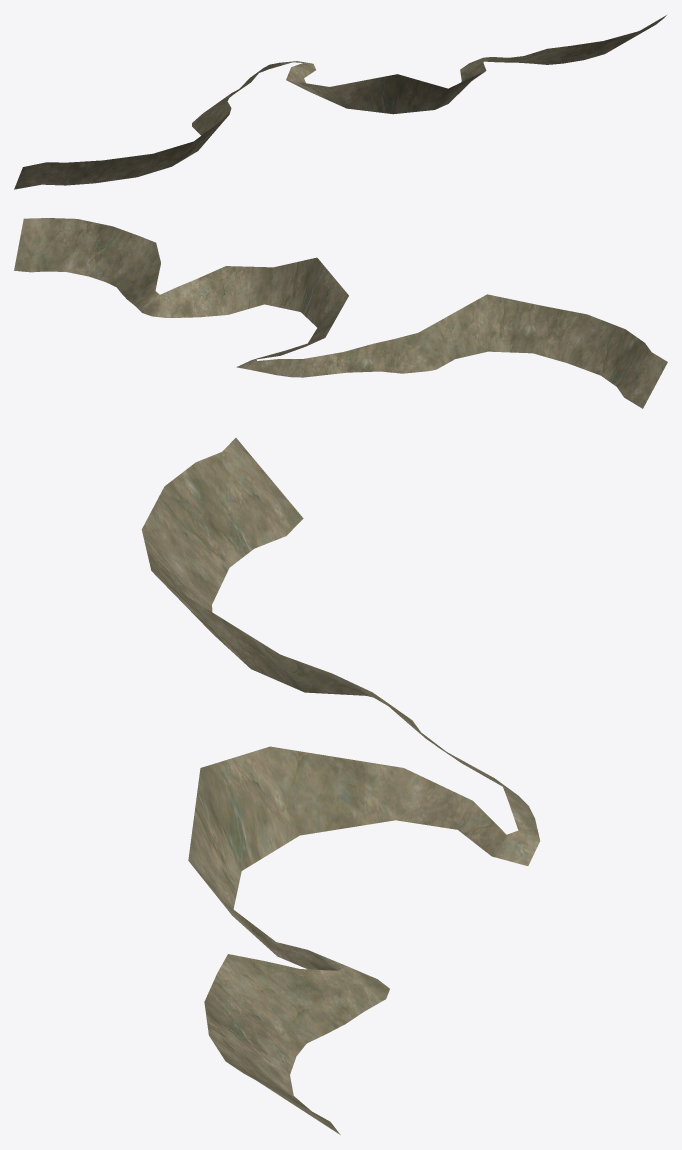
The model's file is OVERHILL_A_01_OBJECT165.fbx.
3 views of the same model, one above another, from view 1: azimuth 30°, elevation 25°; view 2: azimuth 150°, elevation 25°; view 3: azimuth 270°, elevation 25° (orthographic). The views are drawn at different scales.
Parts seen in each view (by area): view 1: OVERHILL_A_01_OBJECT165; view 2: OVERHILL_A_01_OBJECT165; view 3: OVERHILL_A_01_OBJECT165.
Boxes of the visible parts, x1=… form: OVERHILL_A_01_OBJECT165: x1=14, y1=15, x2=666, y2=189; OVERHILL_A_01_OBJECT165: x1=14, y1=218, x2=667, y2=408; OVERHILL_A_01_OBJECT165: x1=141, y1=438, x2=539, y2=1134.
Bounding box in the file's own units: 433380 × 40641 × 116976.
1 material, 1 textured.
